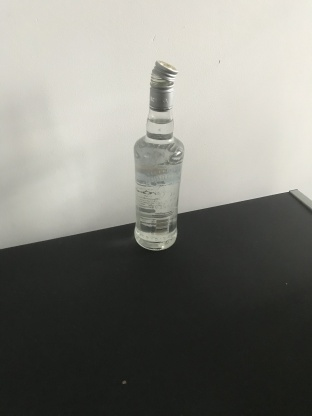nakretka: (148, 58, 179, 112)
